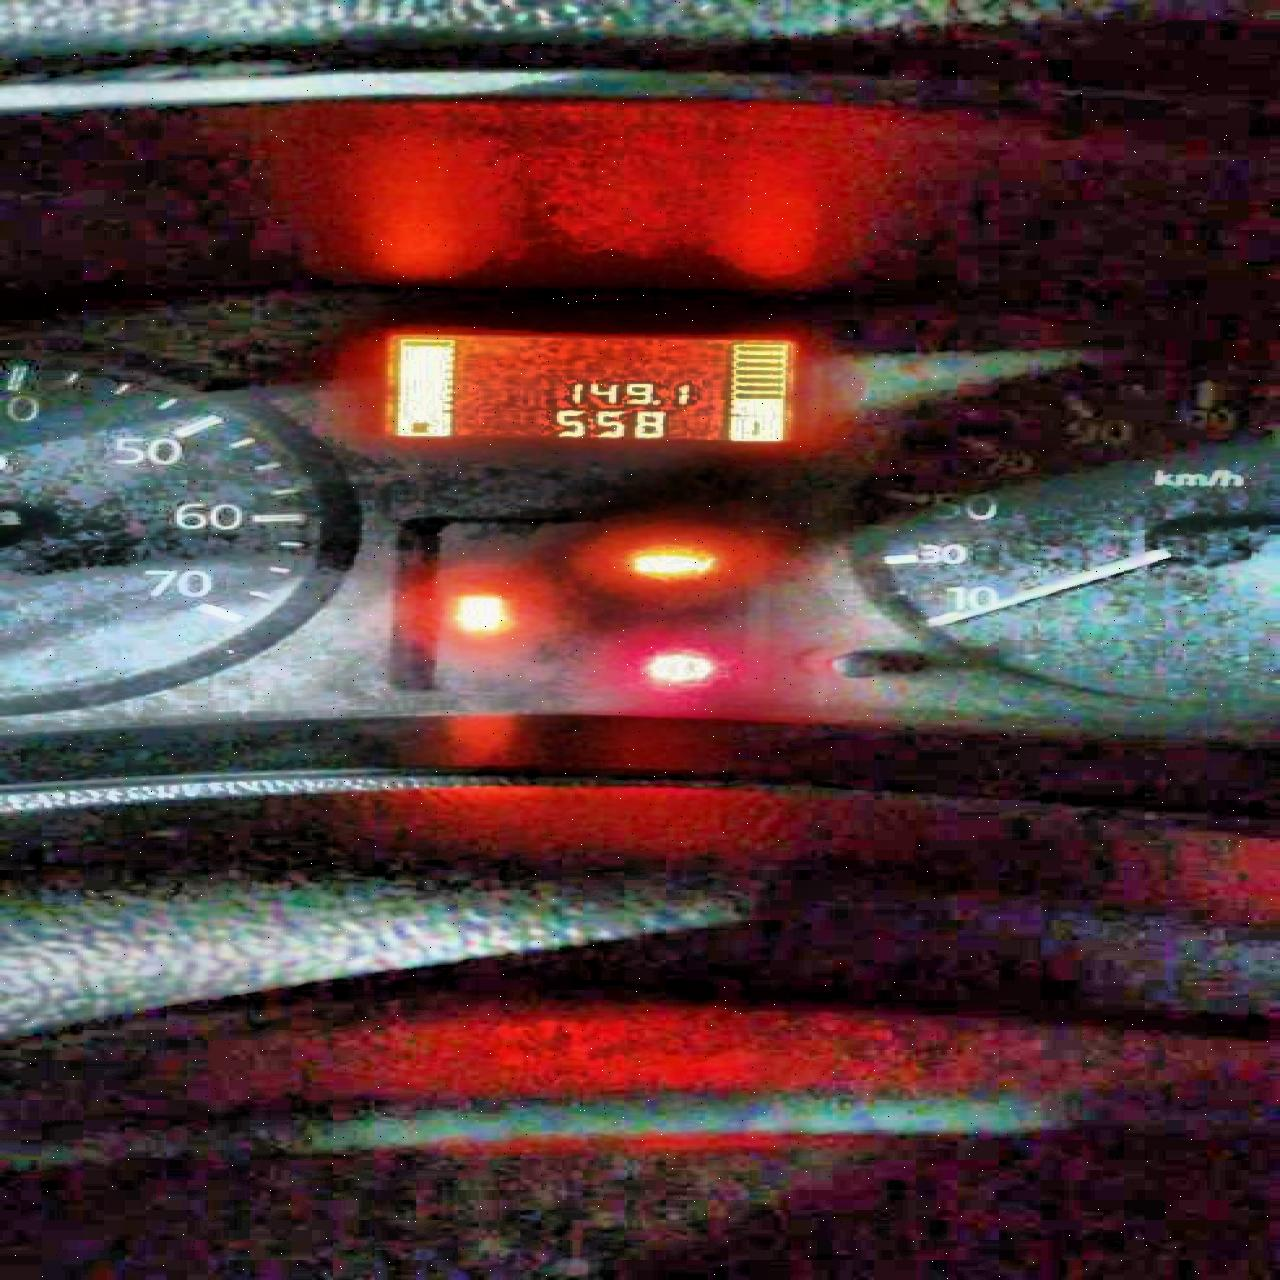-: (651, 397, 663, 407)
1: (668, 380, 694, 406), (567, 380, 580, 404)
4: (588, 380, 617, 404)
5: (551, 408, 586, 438), (591, 409, 625, 440)
8: (633, 409, 663, 440)
9: (625, 380, 651, 404)
odometer: (380, 327, 802, 443)
